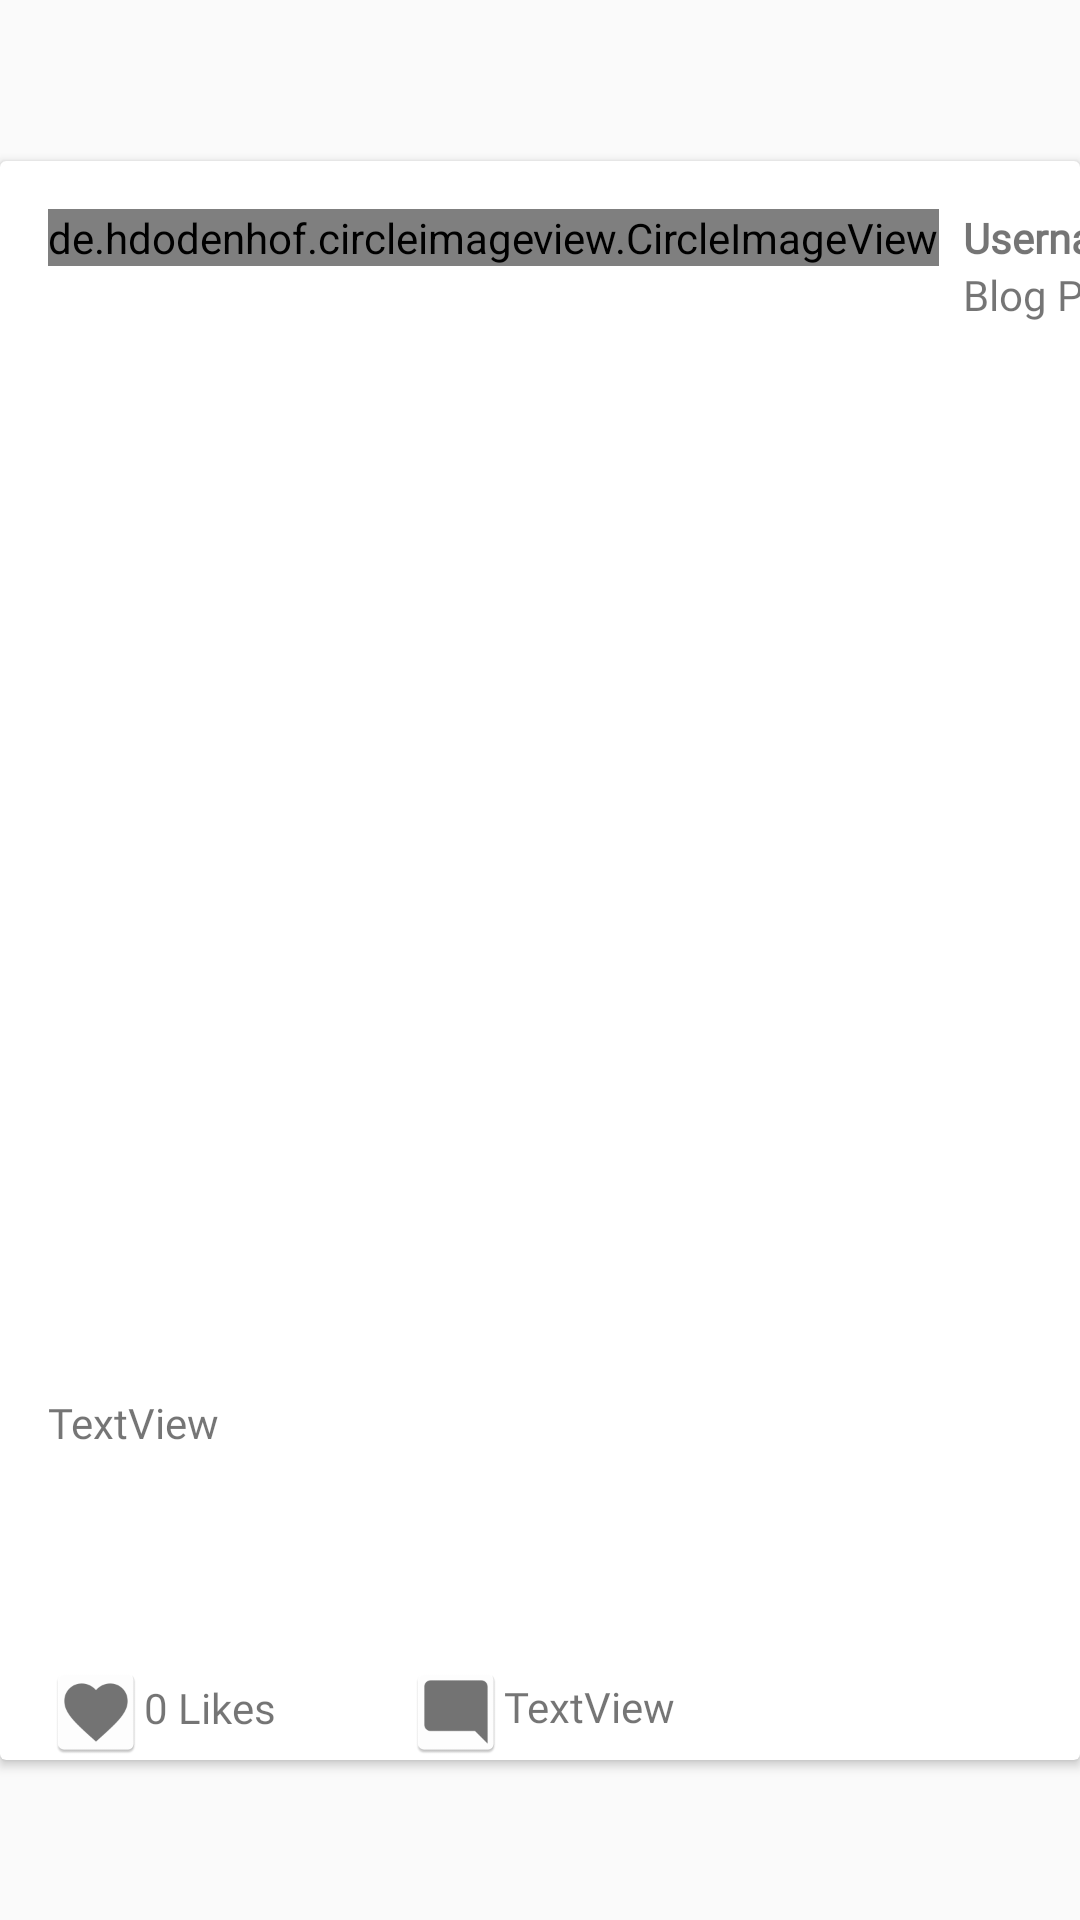

Icons on this 1080*1920 Android screen, each with its box as (x1, y1, x2, y2):
comment: (418, 1680, 495, 1752)
